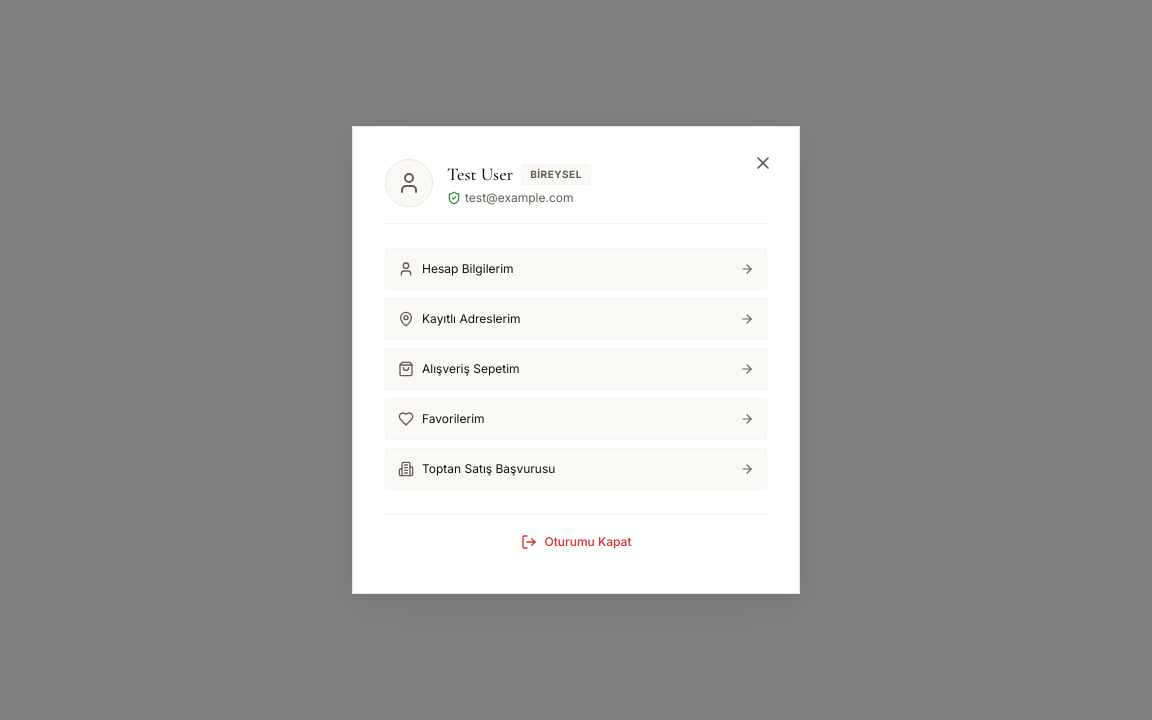
Test: AuthModal Component (Real Google OAuth Customer Sign-In) › renders error message when signOut rejects
Click the button "Oturumu Kapat" at (576, 542), box [385, 523, 767, 561]
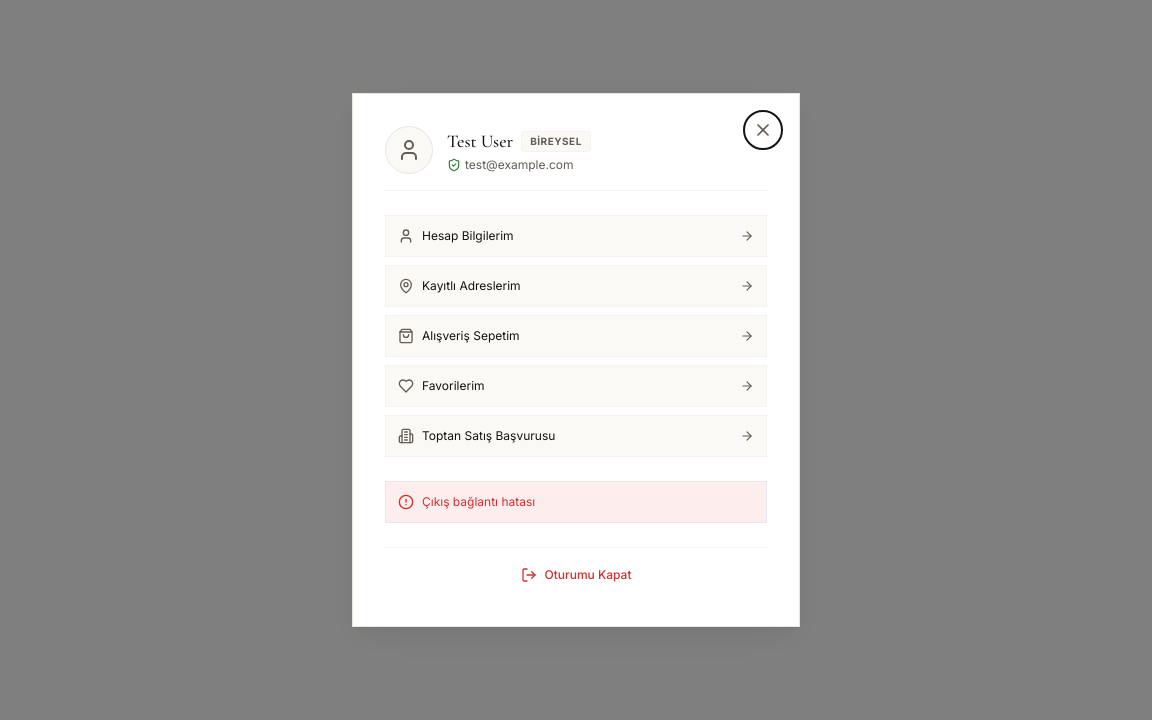
Check: the text "Çıkış bağlantı hatası" is shown, box [422, 494, 535, 510]
